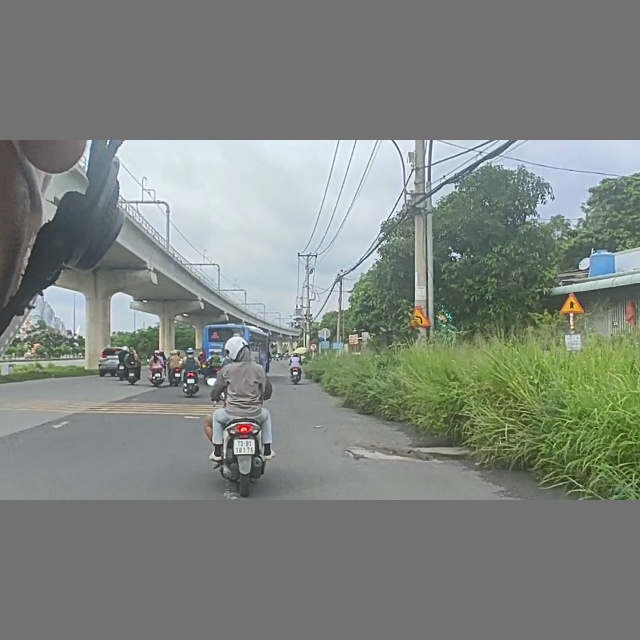P.123a: (309, 341, 319, 350)
W.201a: (408, 306, 433, 328)
W.207: (559, 292, 587, 314)
